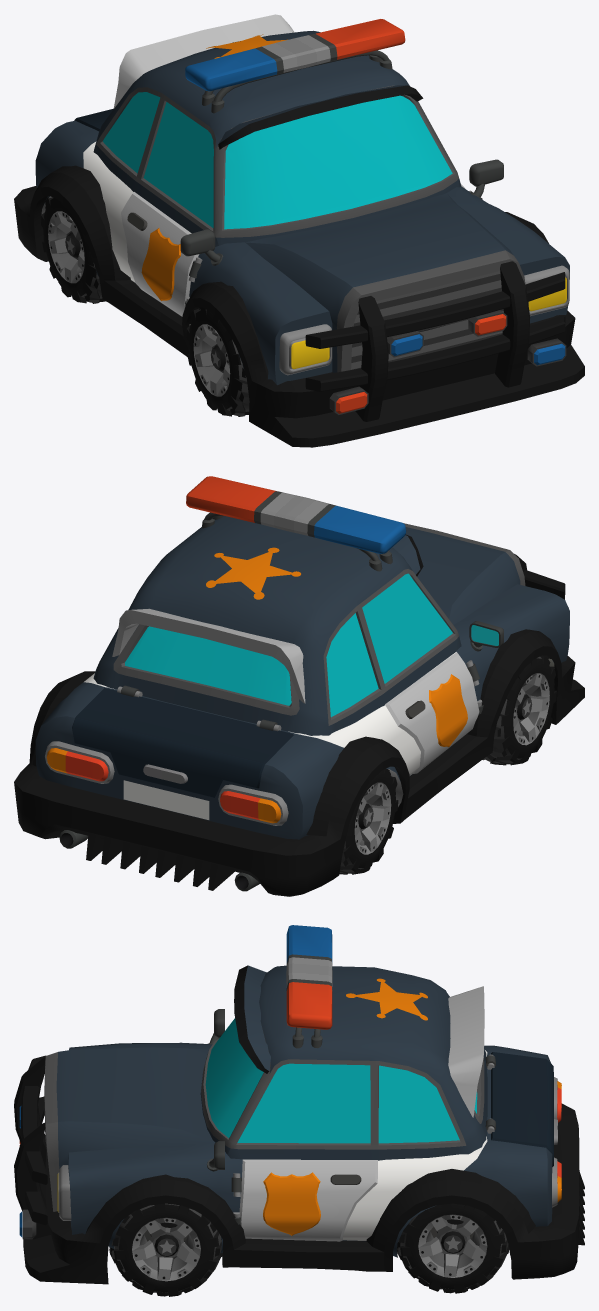
The model's file is VEH5-B.fbx.
The picture shows the model from 3 angles, top to bottom: view 1: azimuth 30°, elevation 25°; view 2: azimuth 150°, elevation 25°; view 3: azimuth 270°, elevation 25°; orthographic projection. The views are drawn at different scales.
Parts seen in each view (by area): view 1: VEH5_B, V5B_BodyParts, V5B_Wheel_FR, V5B_Wheel_BR; view 2: VEH5_B, V5B_BodyParts, V5B_Wheel_FR, V5B_Wheel_BR; view 3: VEH5_B, V5B_Wheel_FL, V5B_Wheel_BL, V5B_BodyParts.
Boxes of the visible parts, x1,y1,x2,y2 form: VEH5_B: [14, 14, 584, 447]; V5B_BodyParts: [185, 19, 566, 414]; V5B_Wheel_FR: [186, 307, 249, 416]; V5B_Wheel_BR: [41, 196, 106, 303]; VEH5_B: [14, 512, 584, 896]; V5B_BodyParts: [186, 476, 406, 553]; V5B_Wheel_FR: [482, 655, 556, 765]; V5B_Wheel_BR: [339, 769, 398, 874]; VEH5_B: [14, 965, 584, 1284]; V5B_Wheel_FL: [109, 1203, 222, 1296]; V5B_Wheel_BL: [397, 1203, 509, 1293]; V5B_BodyParts: [19, 925, 332, 1239].
Size of the model in its own units: 270 by 221 by 437.
Materials: 1 (1 with a texture image).
